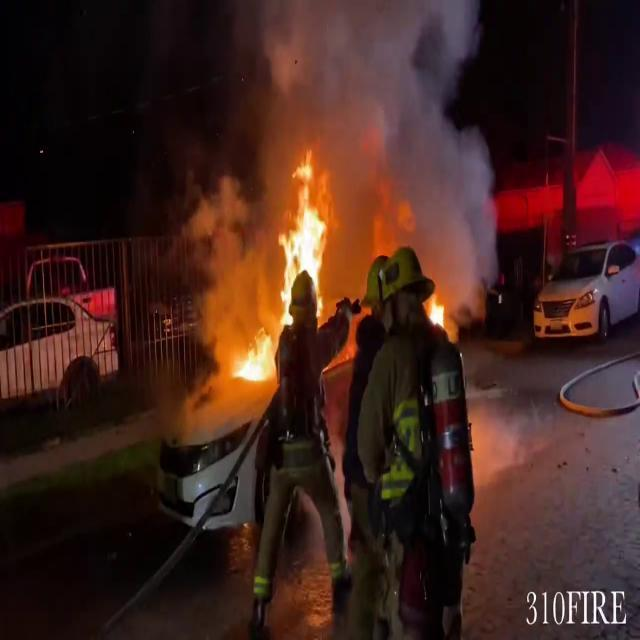Fire: (224, 164, 336, 392), (227, 322, 276, 390)
Smoke: (220, 1, 506, 296)
